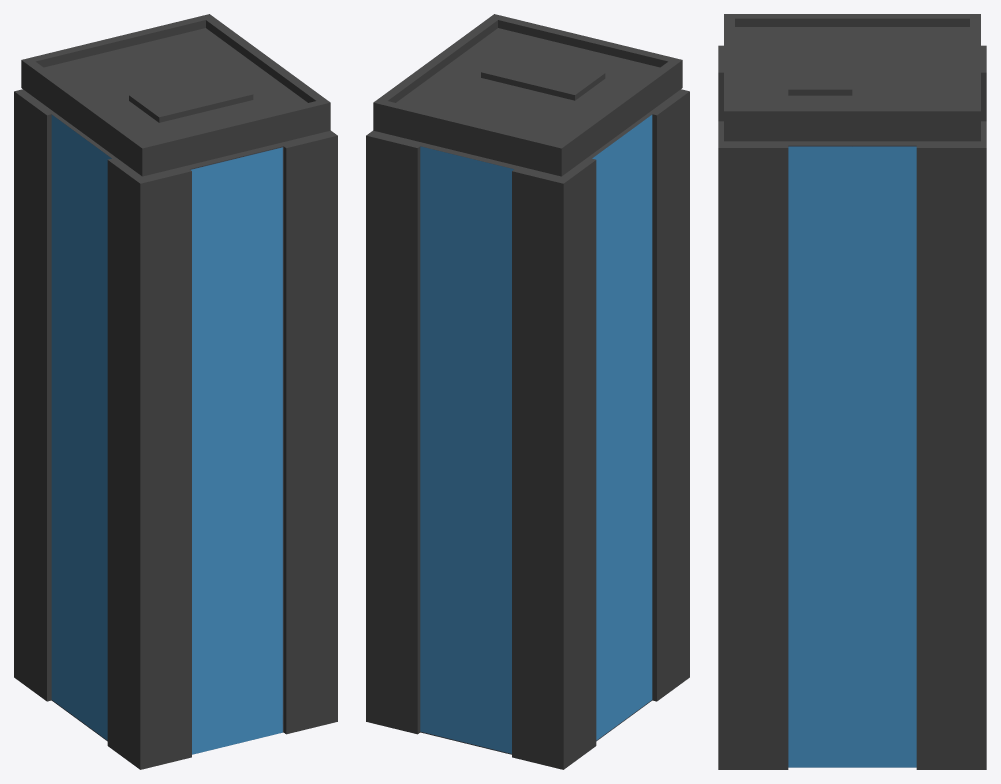
Rendered from eDIFICIL7.fbx.
3 renders of one model, left to right at view 1: azimuth 30°, elevation 25°; view 2: azimuth 150°, elevation 25°; view 3: azimuth 270°, elevation 25°, orthographic. The views are drawn at different scales.
Parts seen in each view (by area): view 1: Highrise_7; view 2: Highrise_7; view 3: Highrise_7.
Part boxes in pixels (<box>): Highrise_7: <box>14,14,337,769</box>; Highrise_7: <box>366,14,689,769</box>; Highrise_7: <box>718,14,986,769</box>.
Bounding box in the file's own units: 1655 × 4954 × 1834.
